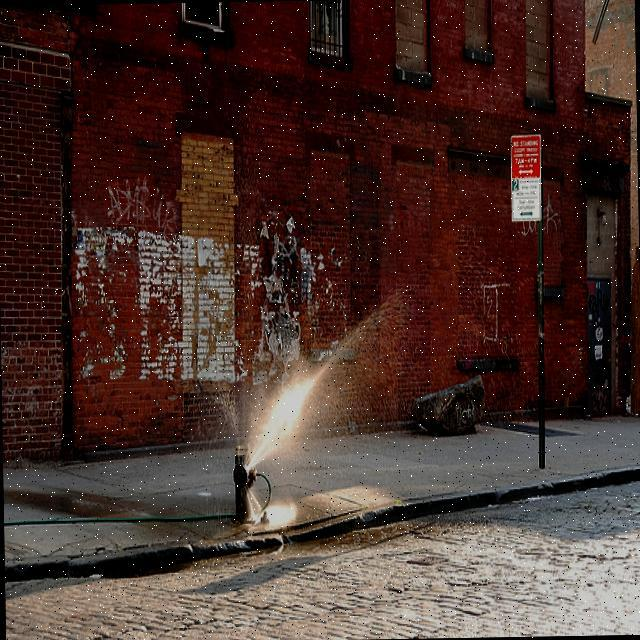fire_hydrant: (230, 442, 260, 518)
